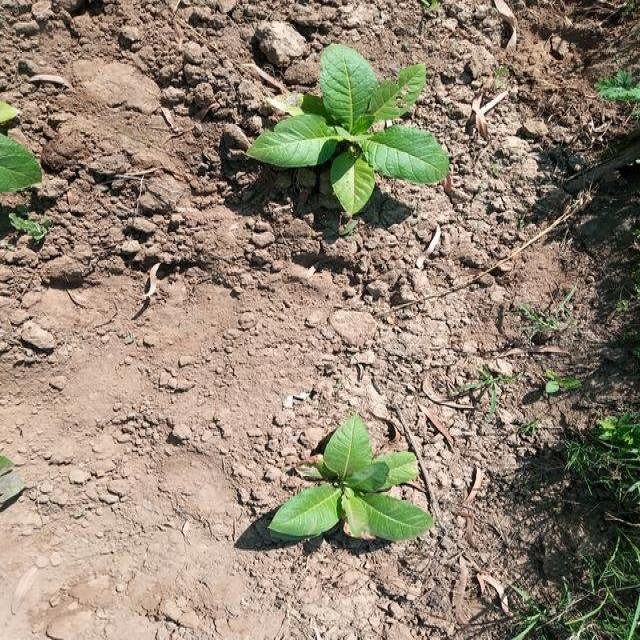crop: (264, 50, 454, 212), (266, 423, 427, 564), (0, 132, 40, 206)
